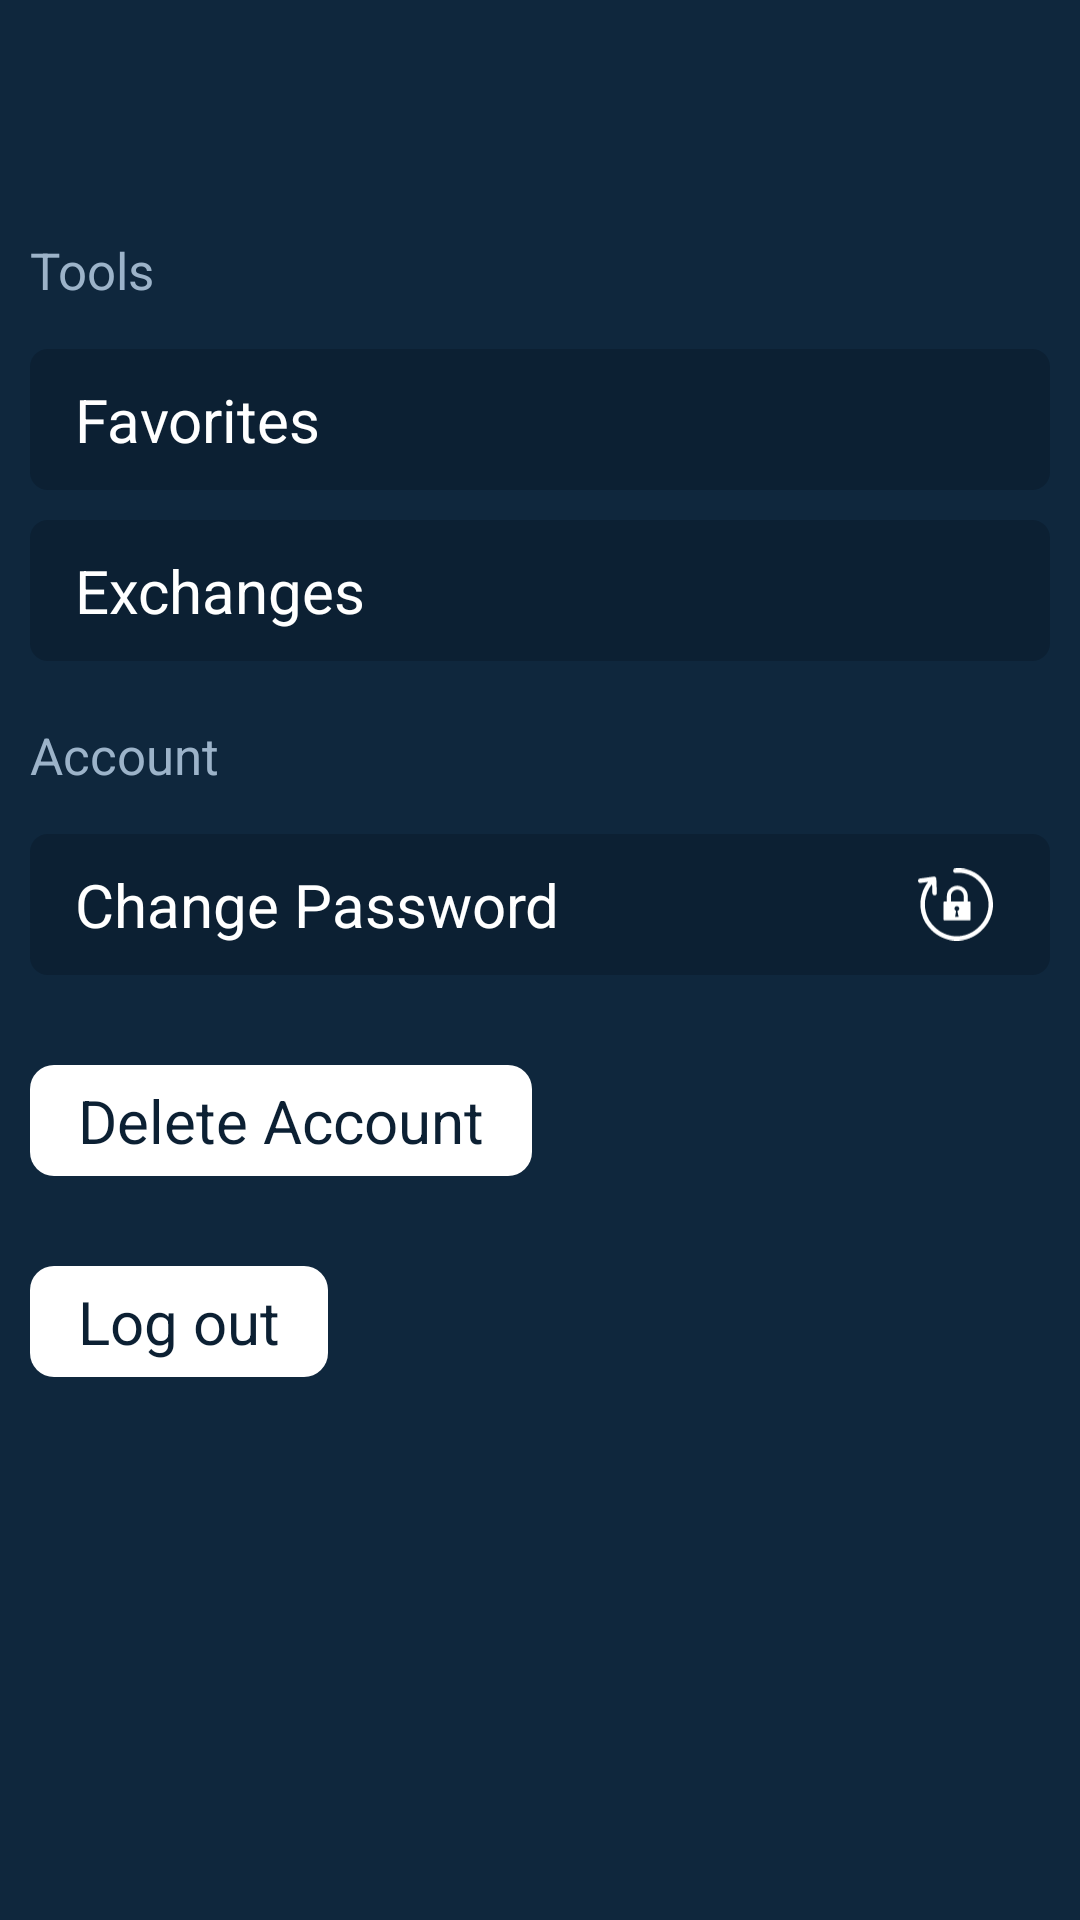

Where to tap for icons on this 1080px x 1920px app screen, as [x,y]:
change password: [955,904]
